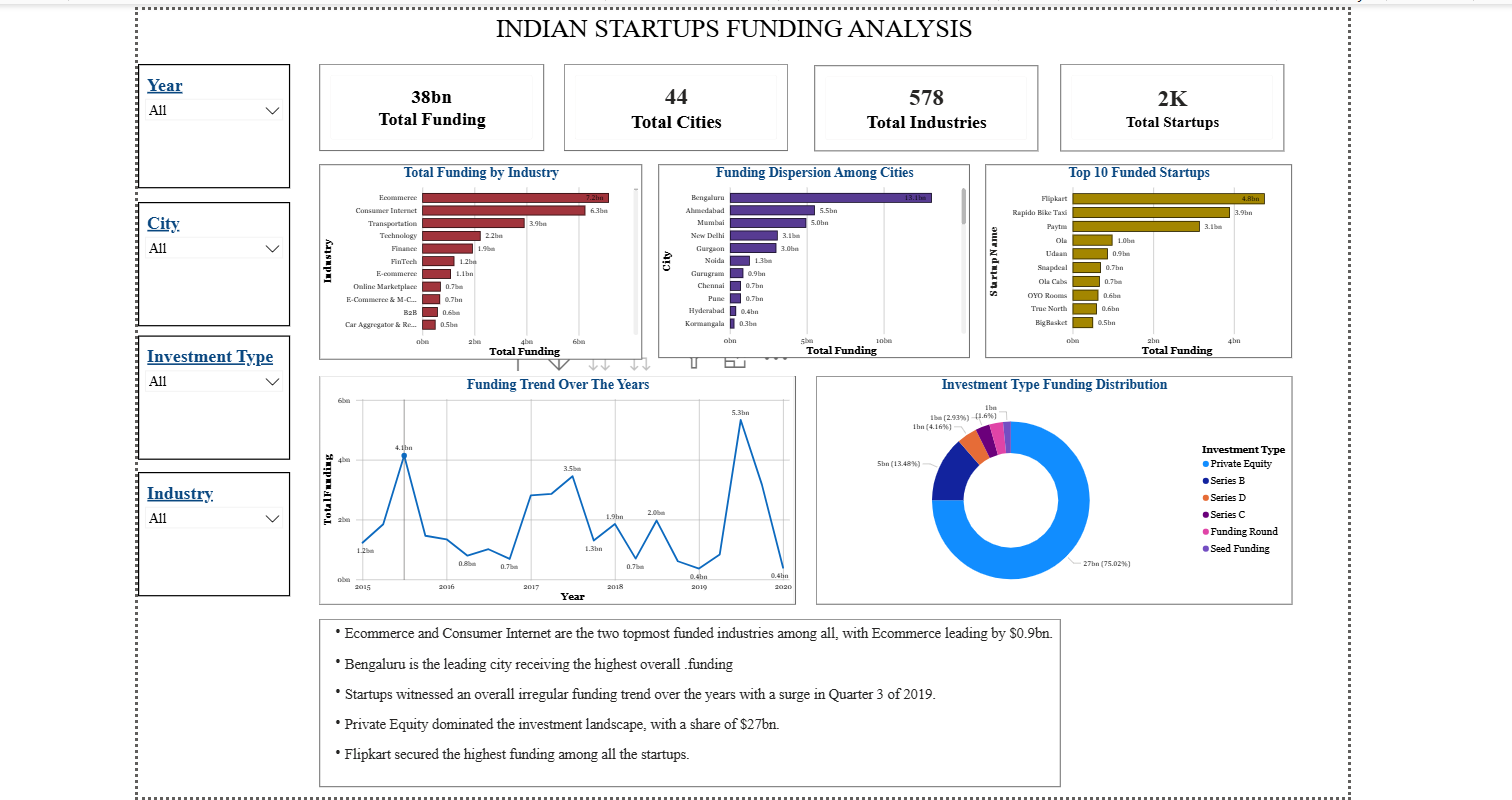

Layout of this report page (visuals, bound fields, positions):
{"tool":"powerbi","page":{"name":"Page 1","canvas":[1999,1300],"ordinal":0},"visuals":[{"type":"cardVisual","fields":{"Data":["startup_funding.Total Startups"]},"box":[1523.9,89.2,369.2,143.7],"z":0},{"type":"cardVisual","fields":{"Data":["startup_funding.Total Cities"]},"box":[702.8,88.1,370,143.4],"z":1000},{"type":"cardVisual","fields":{"Data":["startup_funding.Total Industries"]},"box":[1117.5,91.7,369.2,141.2],"z":2000},{"type":"lineChart","title":"Funding Trend Over The Years","fields":{"Y":["startup_funding.Total Funding"],"Category":["startup_funding.Date .Variation.Date Hierarchy.Year","startup_funding.Date .Variation.Date Hierarchy.Quarter"]},"box":[299.1,604.4,786.8,377],"z":3000},{"type":"clusteredBarChart","fields":{"Category":["startup_funding.Industry"],"Y":["startup_funding.Total Funding"]},"box":[299.1,256.1,532.7,321.7],"z":4000},{"type":"clusteredBarChart","title":"Funding Dispersion Among Cities","fields":{"Y":["startup_funding.Total Funding"],"Category":["startup_funding.City"]},"box":[860.6,256.1,514.3,319.6],"z":5000},{"type":"clusteredBarChart","title":"Top 10 Funded Startups","fields":{"Y":["startup_funding.Total Funding"],"Category":["startup_funding.Startup Name"]},"box":[1399.4,256.1,506.1,319.6],"z":6000},{"type":"donutChart","title":"Investment Type Funding Distribution","fields":{"Category":["startup_funding.Investment Type"],"Y":["startup_funding.Total Funding"]},"box":[1118.7,604.4,786.8,377],"z":7000},{"type":"slicer","fields":{"Values":["startup_funding.Date .Variation.Date Hierarchy.Year"]},"box":[0,88.2,251.1,205.1],"z":8000},{"type":"slicer","fields":{"Values":["startup_funding.City"]},"box":[0,316.2,251.1,205],"z":9000},{"type":"slicer","fields":{"Values":["startup_funding.Industry"]},"box":[0,762.8,251.1,205],"z":10000},{"type":"slicer","fields":{"Values":["startup_funding.Investment Type"]},"box":[0,538.6,251.1,205.1],"z":11000},{"type":"textbox","box":[473.3,0,1023.3,59.5],"z":12000},{"type":"cardVisual","fields":{"Data":["startup_funding.Total Funding"]},"box":[299.1,88.1,370.9,143.4],"z":13000},{"type":"textbox","box":[299.8,1006,1224,277.5],"z":14000}]}

Visuals, with their boxes in screenshot pixels (x1, y1, x2, y2):
cardVisual - startup_funding.Total Startups: (1054,62,1278,149)
cardVisual - startup_funding.Total Cities: (556,61,780,148)
cardVisual - startup_funding.Total Industries: (808,63,1031,149)
"Funding Trend Over The Years" lineChart: (311,374,788,603)
clusteredBarChart - startup_funding.Industry x startup_funding.Total Funding: (311,163,634,358)
"Funding Dispersion Among Cities" clusteredBarChart: (652,163,964,357)
"Top 10 Funded Startups" clusteredBarChart: (978,163,1285,357)
"Investment Type Funding Distribution" donutChart: (808,374,1285,603)
slicer - startup_funding.Date .Variation.Date Hierarchy.Year: (130,61,282,186)
slicer - startup_funding.City: (130,200,282,324)
slicer - startup_funding.Industry: (130,470,282,595)
slicer - startup_funding.Investment Type: (130,334,282,459)
textbox: (417,8,1037,44)
cardVisual - startup_funding.Total Funding: (311,61,536,148)
textbox: (312,618,1054,786)
